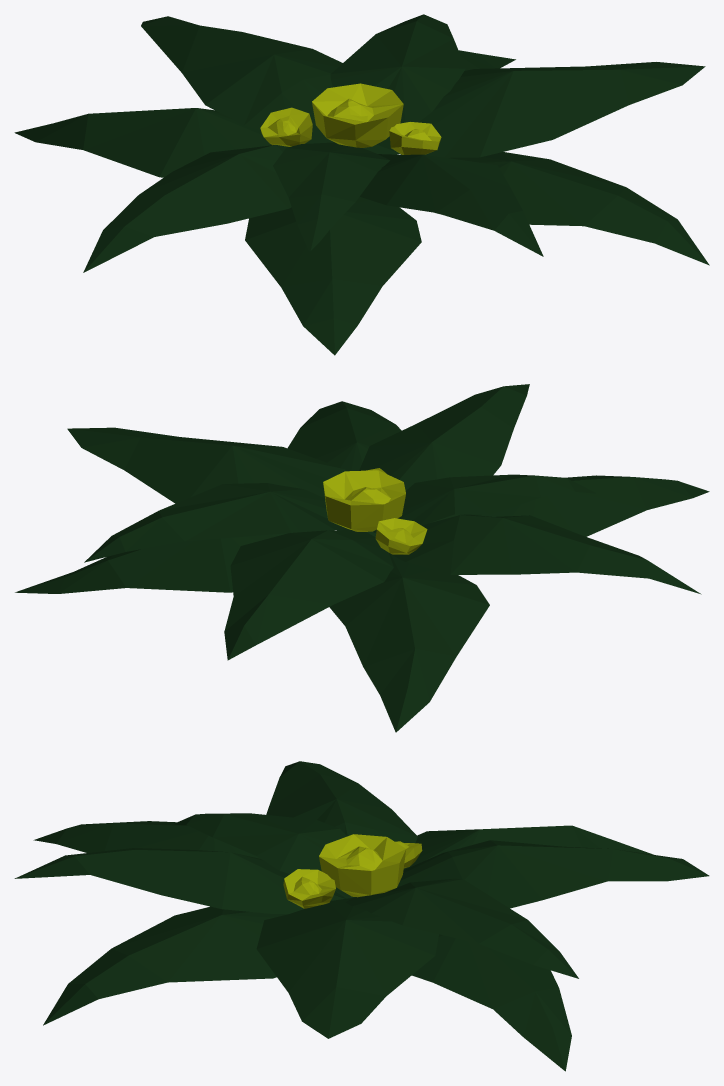
File: SM_Environment_Fern1_5M.FBX
3 views of the same model, one above another, from view 1: azimuth 30°, elevation 25°; view 2: azimuth 150°, elevation 25°; view 3: azimuth 270°, elevation 25° (orthographic). The views are drawn at different scales.
Parts seen in each view (by area): view 1: SM_Environment_Leaf037, SM_Environment_Leaf042, SM_Environment_Leaf041, SM_Environment_Leaf039, SM_Environment_Leaf038, SM_Environment_Leaf040, SM_Environment_Leaf035, SM_Environment_SmLeaf021, SM_Environment_SmLeaf020, SM_Environment_Flower014, SM_Environment_Flower015, SM_Environment_Flower030 (+1 smaller); view 2: SM_Environment_Leaf040, SM_Environment_Leaf041, SM_Environment_Leaf039, SM_Environment_Leaf037, SM_Environment_Leaf035, SM_Environment_SmLeaf021, SM_Environment_Leaf043, SM_Environment_Leaf042, SM_Environment_SmLeaf020, SM_Environment_Leaf038, SM_Environment_Flower014, SM_Environment_Flower015; view 3: SM_Environment_Leaf037, SM_Environment_Leaf038, SM_Environment_Leaf041, SM_Environment_Leaf035, SM_Environment_Leaf043, SM_Environment_SmLeaf021, SM_Environment_Leaf039, SM_Environment_SmLeaf020, SM_Environment_Leaf042, SM_Environment_Flower014, SM_Environment_Leaf040, SM_Environment_Flower030.
Part boxes in pixels (box(x1,y1,x2,y2)): SM_Environment_Leaf037: box(377, 62, 705, 157); SM_Environment_Leaf042: box(245, 196, 421, 355); SM_Environment_Leaf041: box(141, 16, 366, 149); SM_Environment_Leaf039: box(83, 145, 291, 272); SM_Environment_Leaf038: box(400, 152, 709, 265); SM_Environment_Leaf040: box(14, 108, 308, 177); SM_Environment_Leaf035: box(360, 154, 543, 256); SM_Environment_SmLeaf021: box(330, 14, 465, 138); SM_Environment_SmLeaf020: box(273, 142, 389, 251); SM_Environment_Flower014: box(312, 83, 403, 147); SM_Environment_Flower015: box(260, 107, 312, 146); SM_Environment_Flower030: box(389, 122, 441, 154); SM_Environment_Leaf040: box(329, 554, 489, 732); SM_Environment_Leaf041: box(224, 530, 393, 660); SM_Environment_Leaf039: box(389, 514, 701, 594); SM_Environment_Leaf037: box(67, 427, 345, 503); SM_Environment_Leaf035: box(359, 384, 529, 536); SM_Environment_SmLeaf021: box(84, 483, 350, 562); SM_Environment_Leaf043: box(15, 530, 334, 593); SM_Environment_Leaf042: box(458, 475, 709, 536); SM_Environment_SmLeaf020: box(373, 474, 595, 532); SM_Environment_Leaf038: box(287, 401, 401, 530); SM_Environment_Flower014: box(323, 470, 405, 531); SM_Environment_Flower015: box(375, 518, 427, 554); SM_Environment_Leaf037: box(256, 897, 438, 1038); SM_Environment_Leaf038: box(43, 906, 286, 1025); SM_Environment_Leaf041: box(397, 840, 709, 908); SM_Environment_Leaf035: box(14, 848, 346, 914); SM_Environment_Leaf043: box(412, 934, 571, 1071); SM_Environment_SmLeaf021: box(345, 878, 578, 978); SM_Environment_Leaf039: box(266, 761, 417, 897); SM_Environment_SmLeaf020: box(173, 813, 346, 873); SM_Environment_Leaf042: box(33, 821, 352, 898); SM_Environment_Flower014: box(319, 834, 405, 897); SM_Environment_Leaf040: box(403, 825, 653, 869); SM_Environment_Flower030: box(283, 869, 335, 908).
Bounding box in the file's own units: 54.33 × 8.05 × 52.42.
